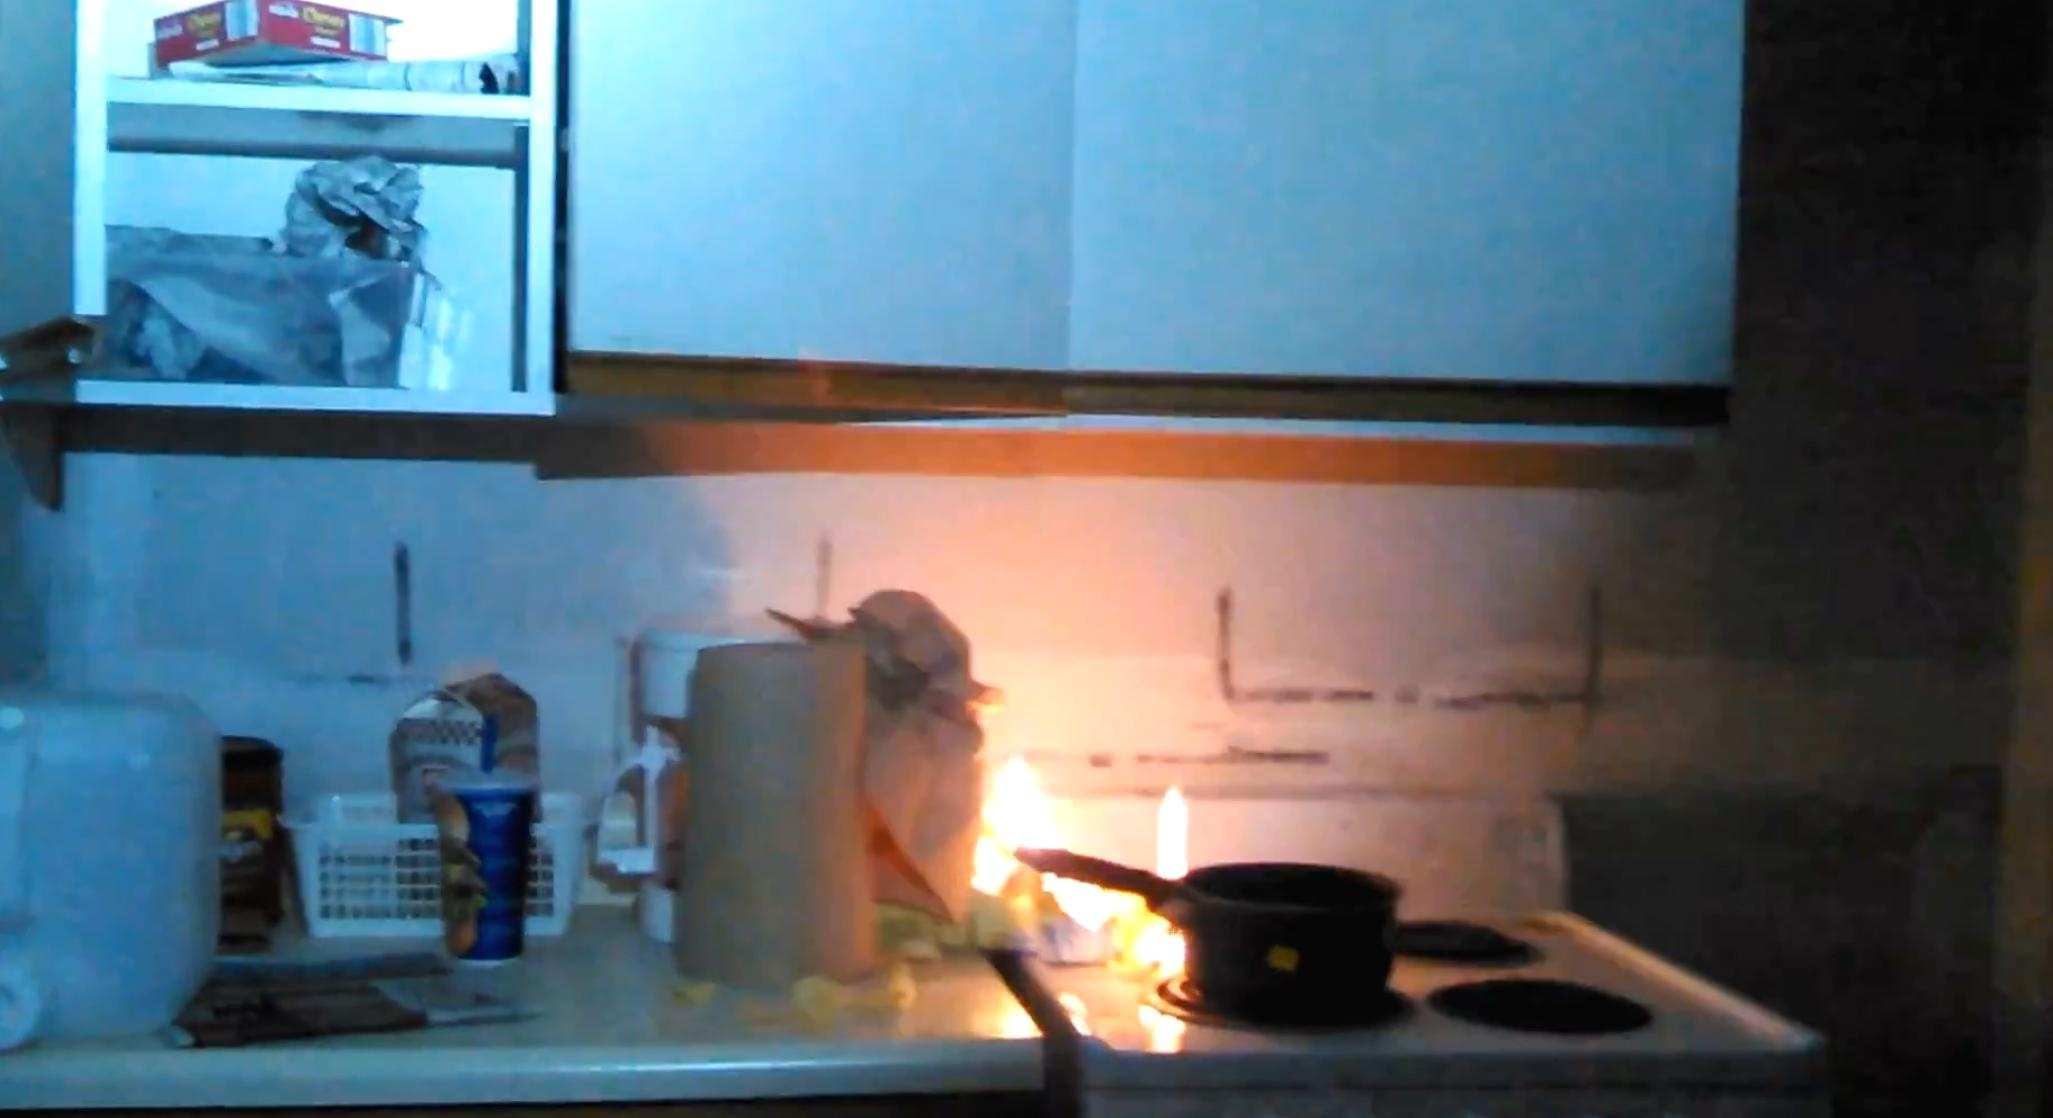fire: (955, 721, 1197, 1044)
